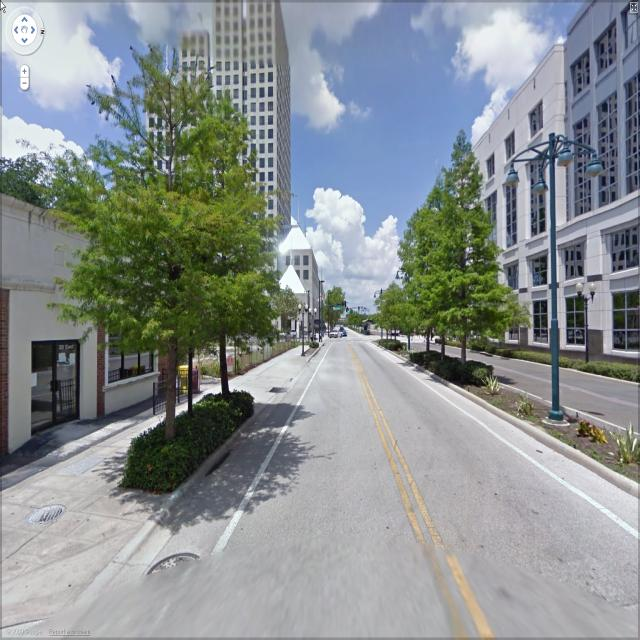b_1: (518, 6, 640, 384)
b_2: (134, 1, 318, 330), (1, 171, 190, 465), (440, 58, 570, 350)
